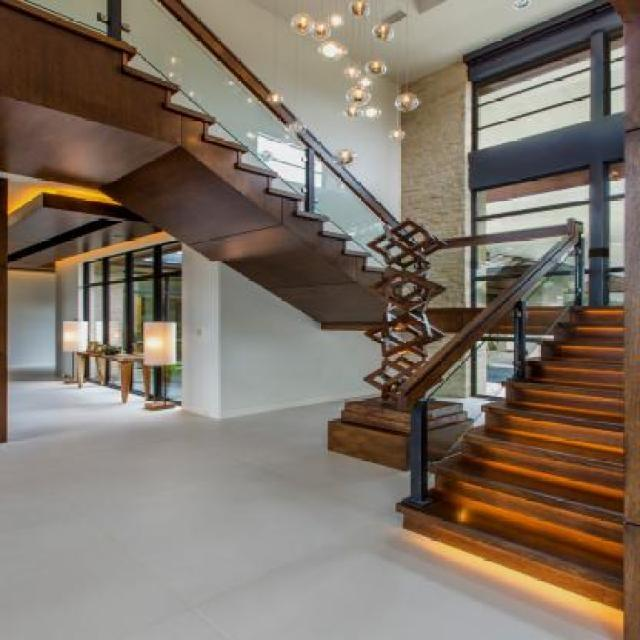stair: (278, 284, 622, 553)
